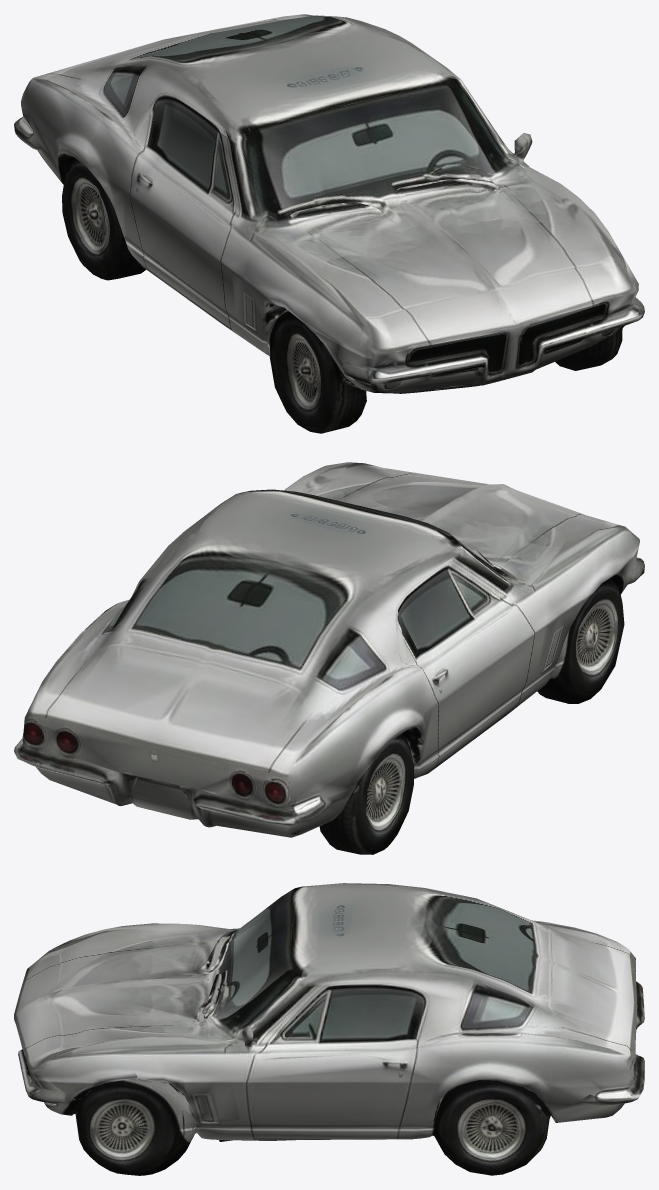
Rendered from corvette_63.glb.
3 renders of one model, top to bottom at view 1: azimuth 30°, elevation 25°; view 2: azimuth 150°, elevation 25°; view 3: azimuth 270°, elevation 25°, orthographic. The views are drawn at different scales.
Parts seen in each view (by area): view 1: textured; view 2: textured; view 3: textured.
Part boxes in pixels (bbox=[...]): textured: bbox=[14, 14, 644, 433]; textured: bbox=[14, 462, 644, 854]; textured: bbox=[14, 883, 644, 1175].
Bounding box in the file's own units: 1.01 × 0.6884 × 1.99.
1 material, 1 textured.
